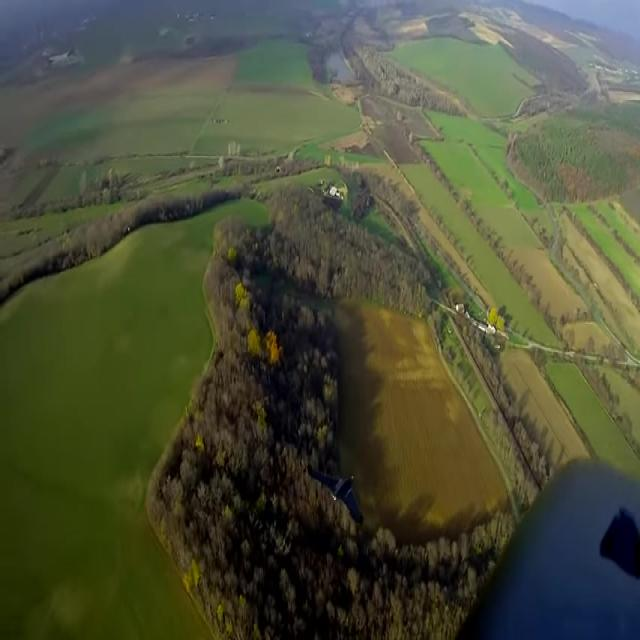iha: (305, 462, 365, 525)
